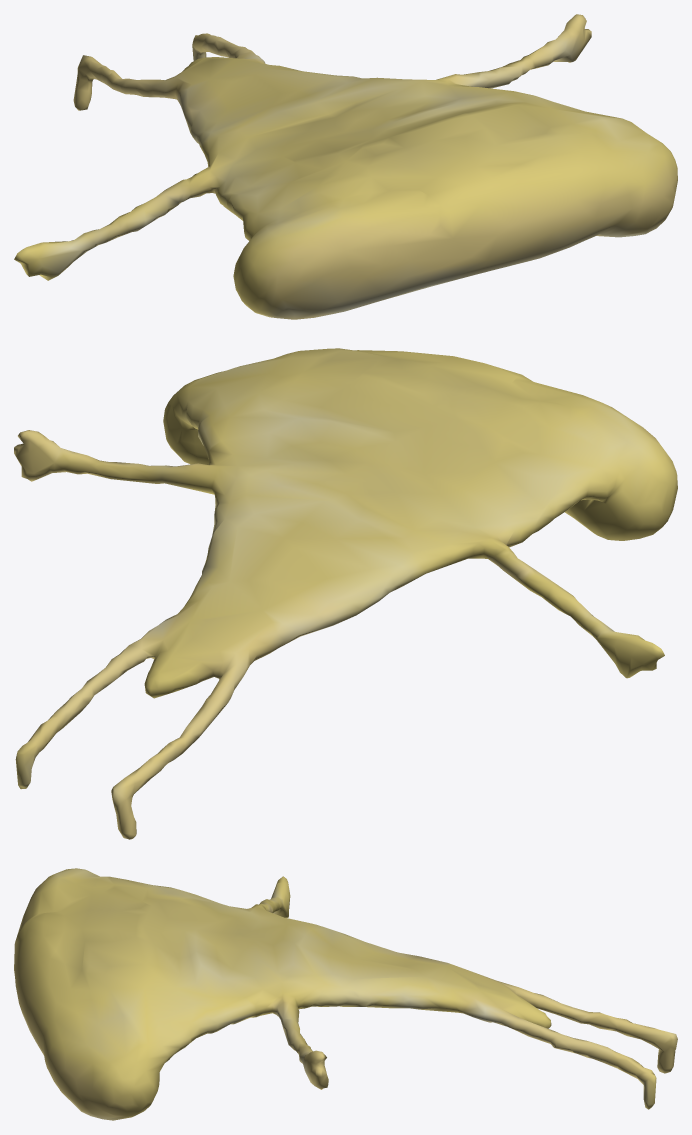
3 renders of one model, top to bottom at view 1: azimuth 30°, elevation 25°; view 2: azimuth 150°, elevation 25°; view 3: azimuth 270°, elevation 25°, orthographic. The views are drawn at different scales.
Visible parts, largest first — view 1: LOD 2_12217630209747545319_820756dedd5b3434c8e6bed8ae6a193b; view 2: LOD 2_12217630209747545319_820756dedd5b3434c8e6bed8ae6a193b; view 3: LOD 2_12217630209747545319_820756dedd5b3434c8e6bed8ae6a193b.
Boxes of the visible parts, x1,y1,x2,y2 form: LOD 2_12217630209747545319_820756dedd5b3434c8e6bed8ae6a193b: (14, 14, 677, 319); LOD 2_12217630209747545319_820756dedd5b3434c8e6bed8ae6a193b: (14, 348, 677, 839); LOD 2_12217630209747545319_820756dedd5b3434c8e6bed8ae6a193b: (14, 868, 677, 1120).
Bounding box in the file's own units: 5.09 × 1.62 × 5.67.
